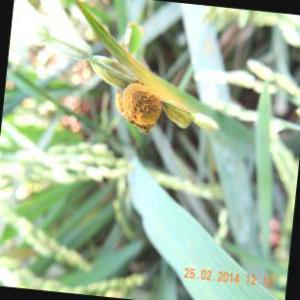Leaf_Scald: (116, 80, 164, 129)
